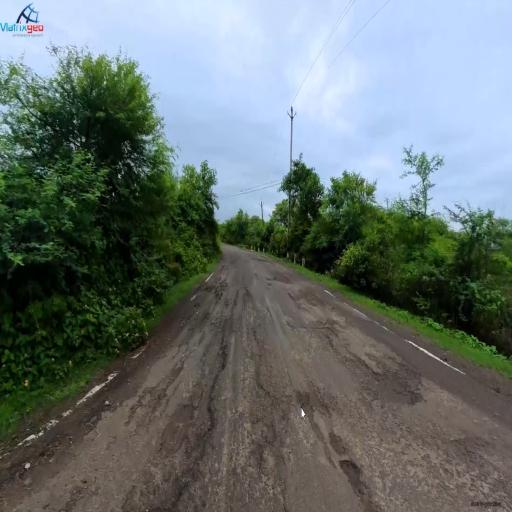pothole: (331, 440, 382, 500)
ravelling: (203, 286, 309, 491)
